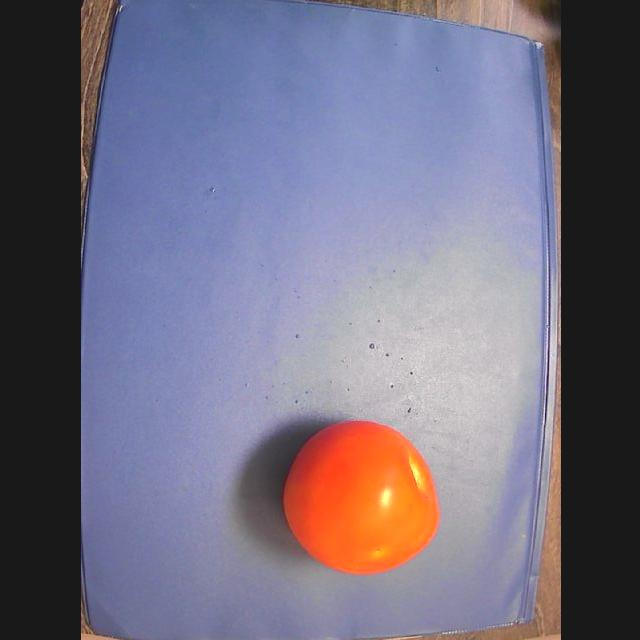tomate: (283, 421, 439, 575)
